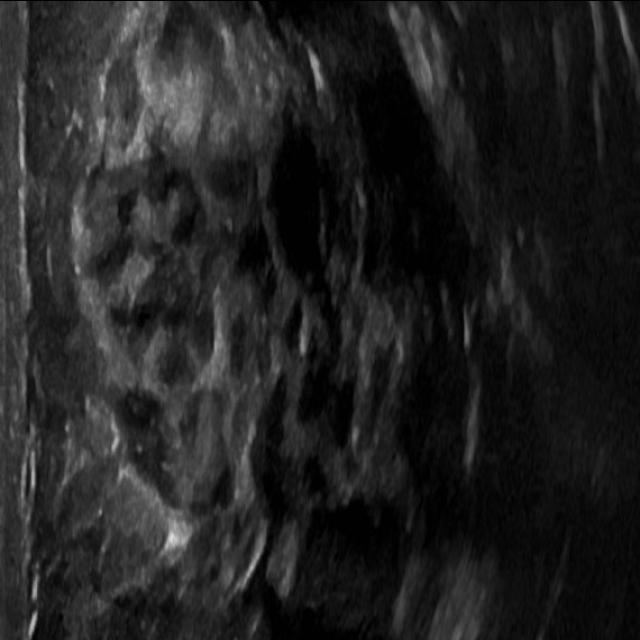Normal: (19, 39, 616, 609)
